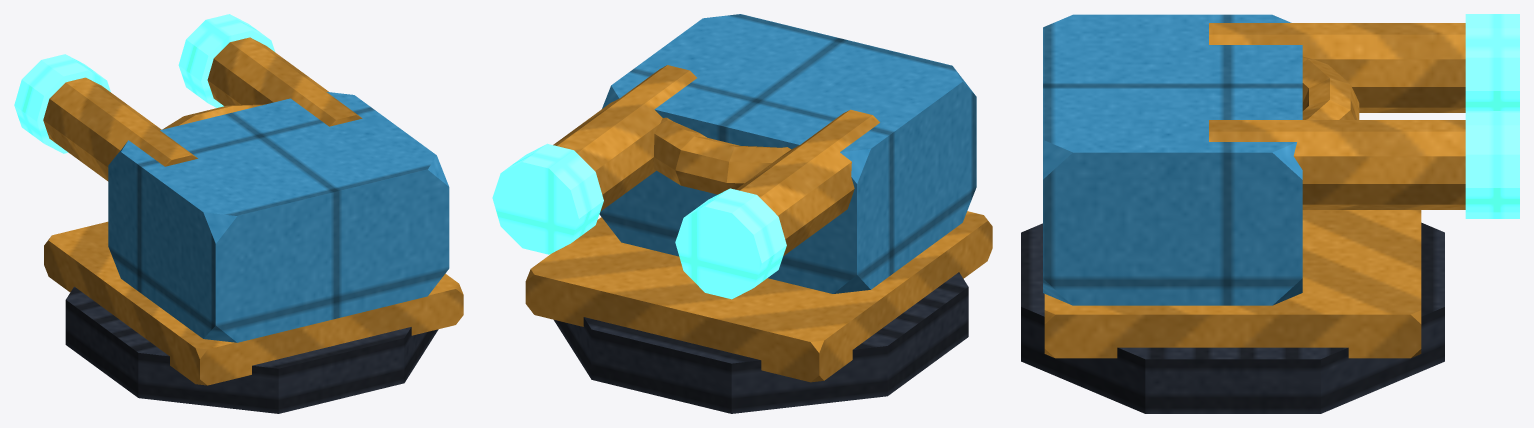
The model's file is eq_magnet_basic.glb.
3 renders of one model, left to right at view 1: azimuth 30°, elevation 25°; view 2: azimuth 150°, elevation 25°; view 3: azimuth 270°, elevation 25°, orthographic. The views are drawn at different scales.
Visible parts, largest first — view 1: eq_magnet_basic; view 2: eq_magnet_basic; view 3: eq_magnet_basic.
Part boxes in pixels (box(x1,y1,x2,y2)): eq_magnet_basic: box(14, 14, 463, 413); eq_magnet_basic: box(492, 14, 992, 413); eq_magnet_basic: box(1021, 14, 1519, 413).
Bounding box in the file's own units: 1.4 × 0.9312 × 1.65.
Materials: 1 (1 with a texture image).
